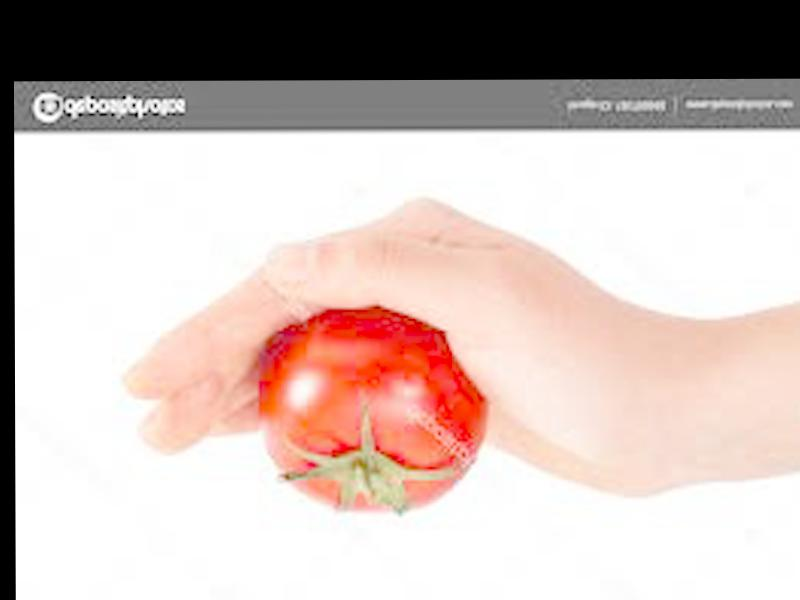Tomato: (264, 310, 490, 511)
